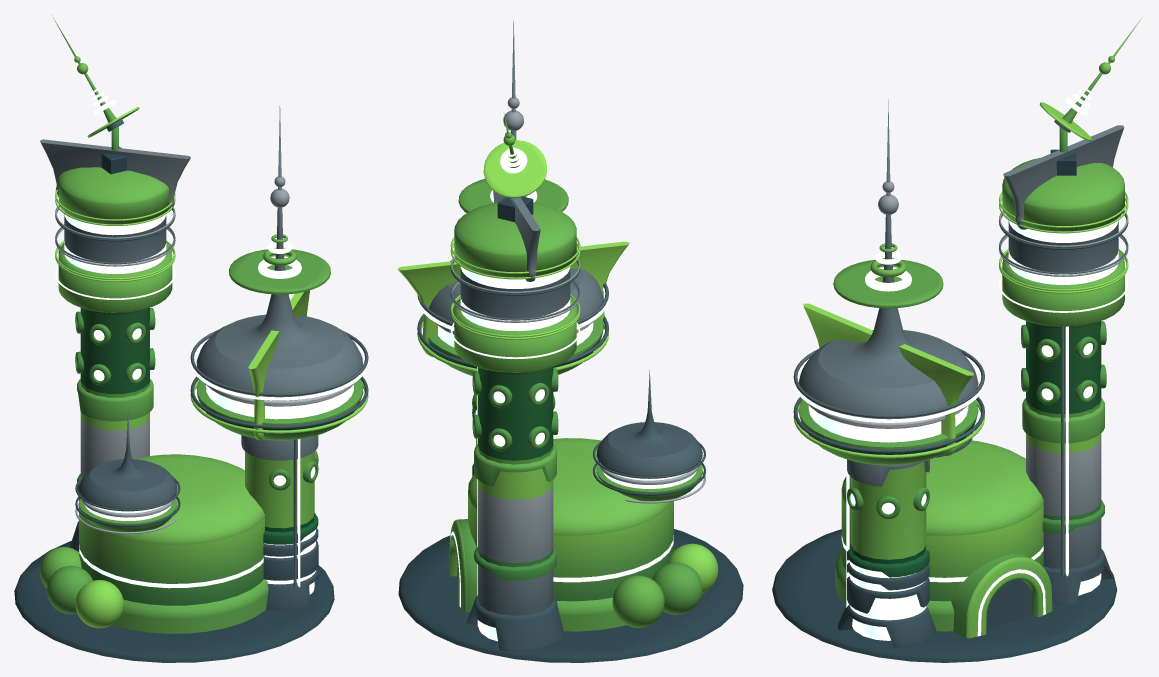
The model's file is ScifiStation1.glb.
The picture shows the model from 3 angles, left to right: view 1: azimuth 30°, elevation 25°; view 2: azimuth 150°, elevation 25°; view 3: azimuth 270°, elevation 25°; orthographic projection. The views are drawn at different scales.
Visible parts, largest first — view 1: MainBuilding1.001, Tower1, Tower2.001, Smalltower1.001, LightTower1, Tanks1.001, LightTower2.001, Satelite1, LightMainBuilding1.001; view 2: Tower2.001, MainBuilding1.001, Tower1, Smalltower1.001, Tanks1.001, LightTower2.001, Satelite1, Door1.001, LightTower1, LightMainBuilding1.001, LightSmalltower1.001, LightSatelite1; view 3: Tower1, Tower2.001, MainBuilding1.001, LightTower1, Door1.001, LightTower2.001, Satelite1, LightDoor1.001.
Boxes of the visible parts, box(x1,y1,x2,y2) form: MainBuilding1.001: box(14, 454, 334, 662); Tower1: box(190, 106, 368, 610); Tower2.001: box(40, 139, 190, 551); Smalltower1.001: box(75, 410, 180, 534); LightTower1: box(190, 241, 368, 594); Tanks1.001: box(39, 547, 123, 628); LightTower2.001: box(55, 214, 175, 380); Satelite1: box(53, 18, 139, 150); LightMainBuilding1.001: box(79, 545, 263, 588); Tower2.001: box(450, 190, 580, 651); MainBuilding1.001: box(398, 438, 743, 662); Tower1: box(397, 20, 629, 475); Smalltower1.001: box(593, 370, 705, 503); Tanks1.001: box(612, 543, 718, 627); LightTower2.001: box(450, 266, 580, 641); Satelite1: box(483, 112, 546, 198); Door1.001: box(449, 519, 476, 612); LightTower1: box(417, 190, 608, 414); LightMainBuilding1.001: box(553, 535, 673, 582); LightSmalltower1.001: box(603, 471, 696, 488); LightSatelite1: box(500, 147, 527, 173); Tower1: box(793, 99, 984, 648); Tower2.001: box(999, 125, 1128, 604); MainBuilding1.001: box(772, 440, 1117, 662); LightTower1: box(793, 251, 984, 640); Door1.001: box(951, 554, 1052, 638); LightTower2.001: box(999, 218, 1128, 595); Satelite1: box(1039, 17, 1142, 152); LightDoor1.001: box(977, 569, 1045, 636).
Bounding box in the file's own units: 3.7 × 6.23 × 3.76.
Materials: 2 (1 with a texture image).
